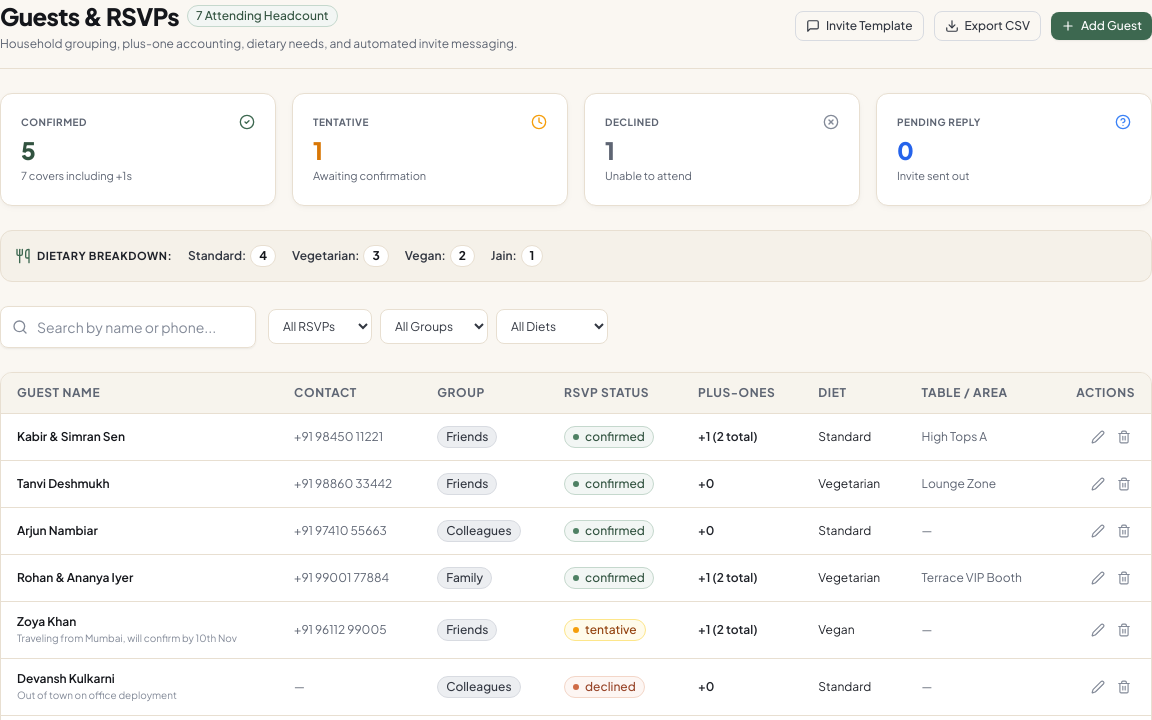
Test: GuestsPage Feature Tests › opens sample invitation generator modal and handles copy action
Click the button "Invite Template".
click(859, 26)  # box x1=795 y1=11 x2=924 y2=41
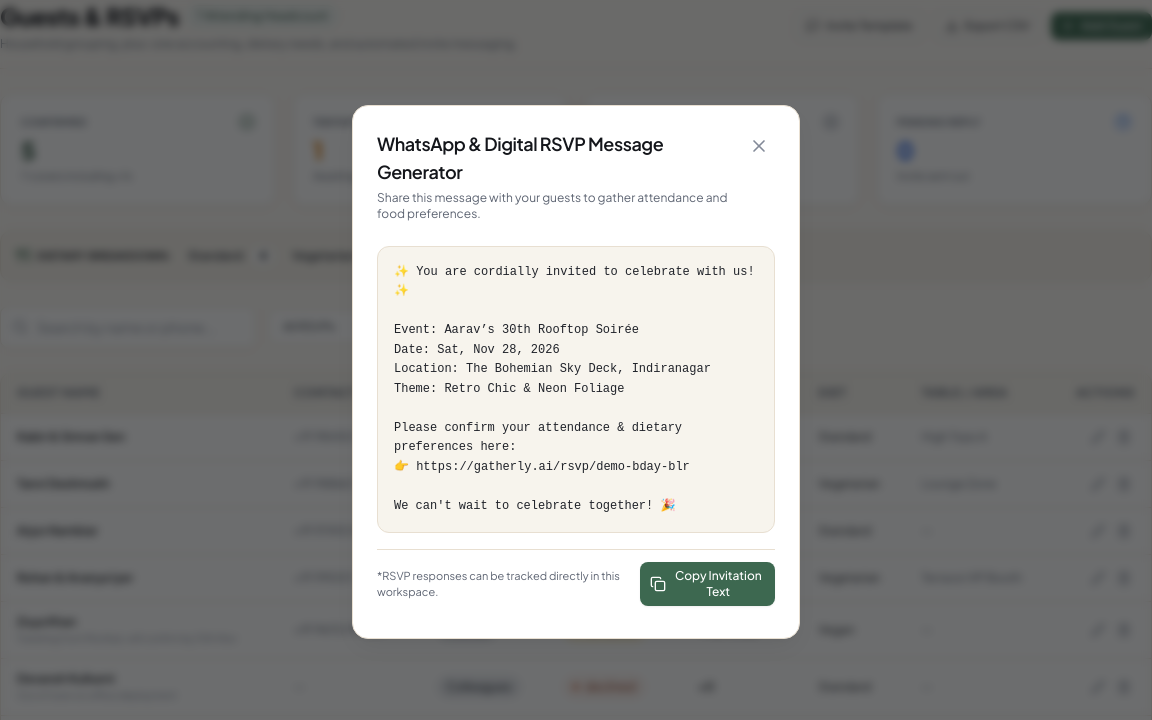
Now the dialog "WhatsApp & Digital RSVP Message Generator" is shown, box x1=352 y1=105 x2=800 y2=639
Now the button "Copy Invitation Text" is shown, box x1=640 y1=562 x2=775 y2=606
